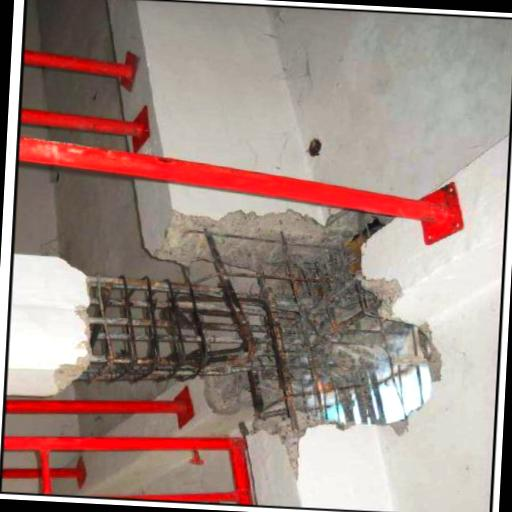spalling: (64, 264, 378, 396)
